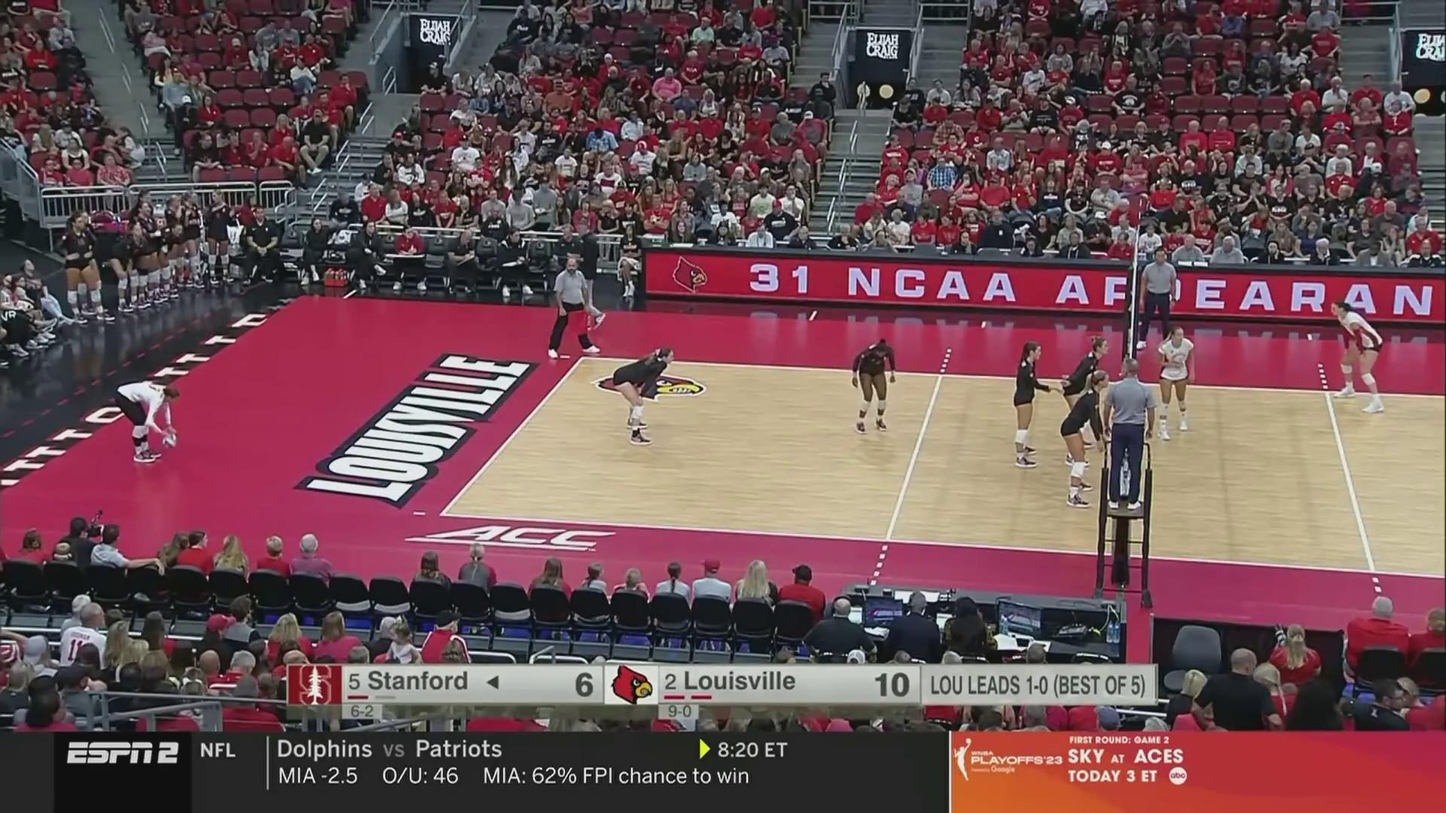player: (1326, 300, 1387, 413), (611, 346, 678, 444), (1061, 373, 1106, 510), (1067, 340, 1113, 469), (115, 378, 178, 464), (1011, 342, 1050, 472), (1156, 329, 1196, 440), (852, 341, 900, 431)
refree: (1106, 357, 1152, 510), (552, 260, 601, 357), (1139, 247, 1179, 354)
